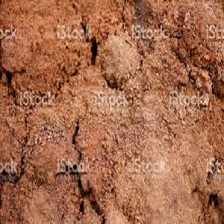sandy_soil: (8, 27, 215, 211)
